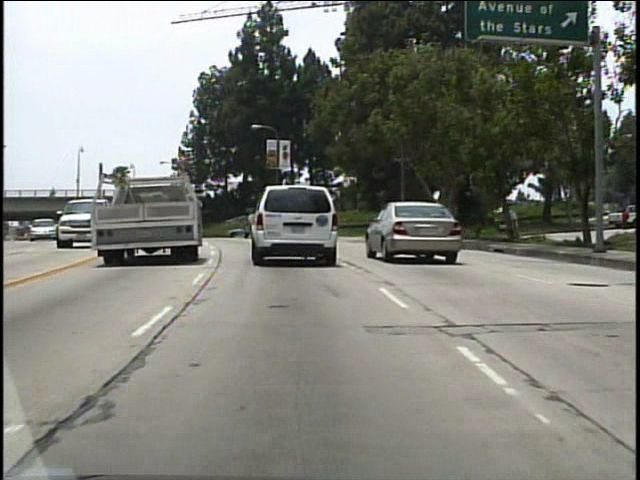person: (47, 183, 58, 204)
